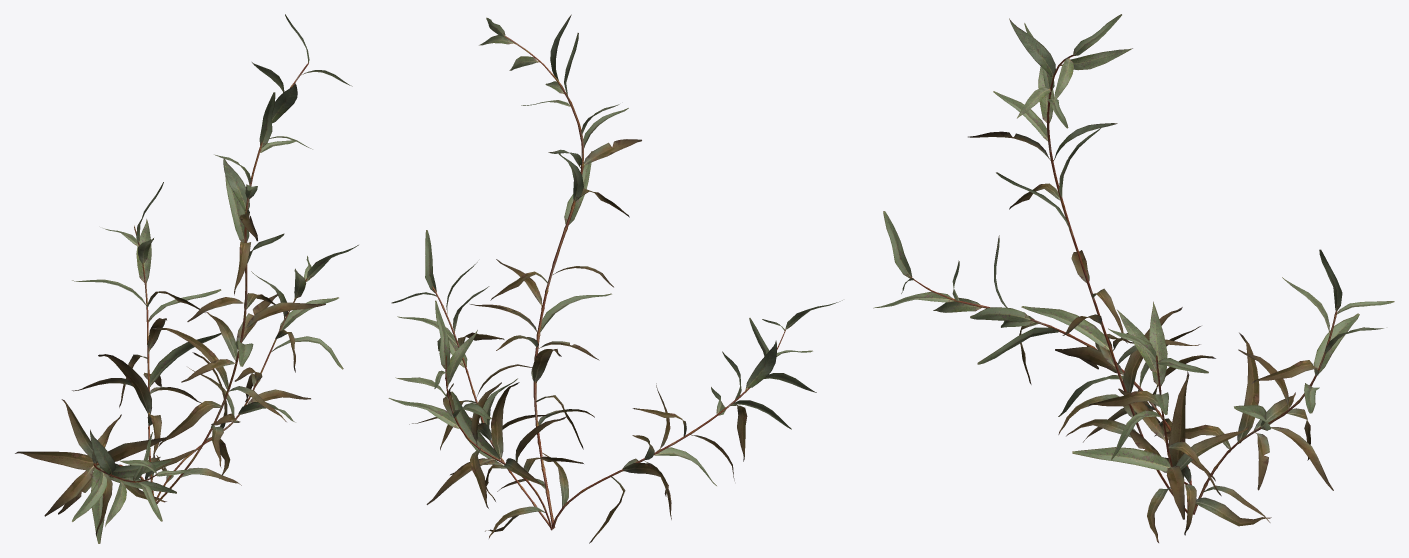
File: shrub_02_b.gltf
3 renders of one model, left to right at view 1: azimuth 30°, elevation 25°; view 2: azimuth 150°, elevation 25°; view 3: azimuth 270°, elevation 25°, orthographic. The views are drawn at different scales.
Parts seen in each view (by area): view 1: shrub_02_b; view 2: shrub_02_b; view 3: shrub_02_b.
Part boxes in pixels (left/top/right/bottom): shrub_02_b: left=15, top=14, right=358, bottom=543; shrub_02_b: left=388, top=14, right=842, bottom=543; shrub_02_b: left=873, top=14, right=1394, bottom=542.
Bounding box in the file's own units: 1.11 × 1.51 × 1.28.
1 material, 1 textured.
